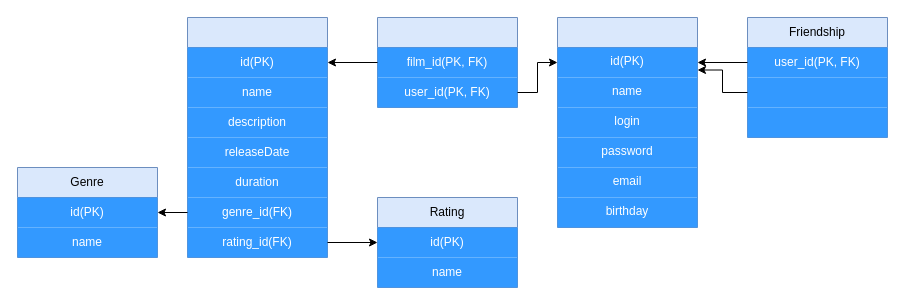
The diagram is 905 pixels wide and 305 high, and some of its shapes have lost their labels. Each missing label, with the box of its shape:
Film: (186, 16, 328, 258)
friend_id(PK, FK): (747, 77, 887, 107)
Likes: (376, 16, 518, 108)
status: (747, 107, 887, 137)
User: (556, 16, 698, 228)
